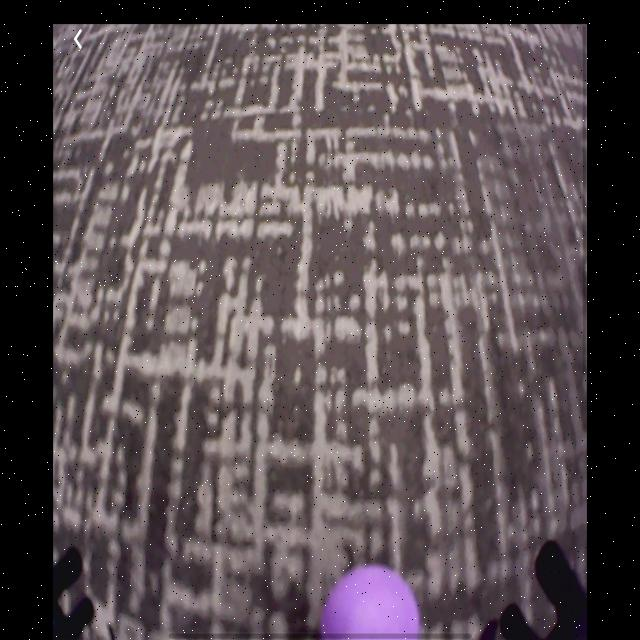ball: (321, 567, 426, 640)
